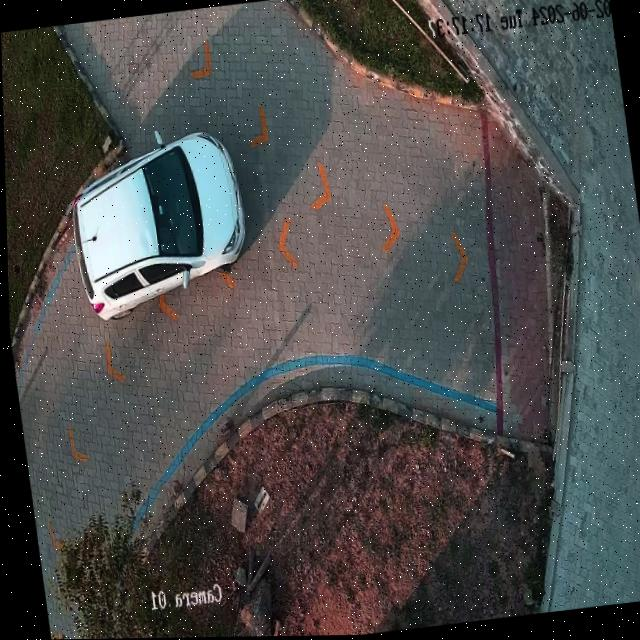car: (72, 132, 244, 319)
